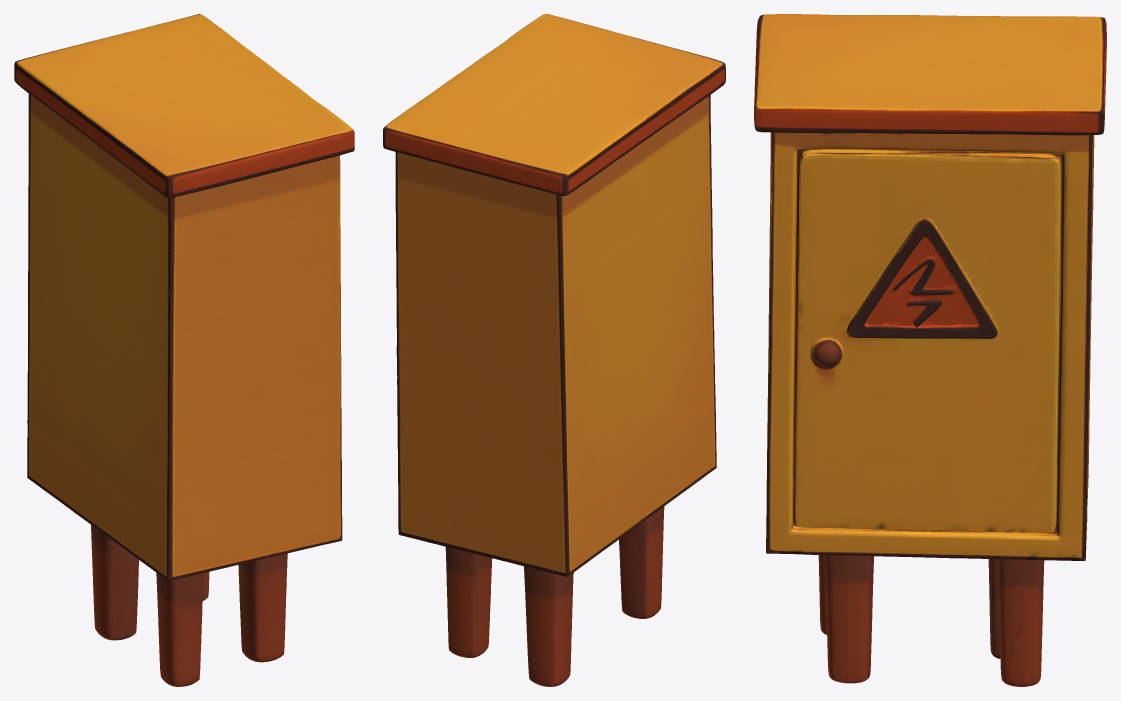
Rendered from urbanutility3d3.glb.
The picture shows the model from 3 angles, left to right: view 1: azimuth 30°, elevation 25°; view 2: azimuth 150°, elevation 25°; view 3: azimuth 270°, elevation 25°; orthographic projection. The views are drawn at different scales.
Parts seen in each view (by area): view 1: tripo_node_341ae1d0-ce1c-4370-97ca-38a2fbbafd6b; view 2: tripo_node_341ae1d0-ce1c-4370-97ca-38a2fbbafd6b; view 3: tripo_node_341ae1d0-ce1c-4370-97ca-38a2fbbafd6b.
Part boxes in pixels (box(x1,y1,x2,y2)): tripo_node_341ae1d0-ce1c-4370-97ca-38a2fbbafd6b: box(14, 14, 354, 686); tripo_node_341ae1d0-ce1c-4370-97ca-38a2fbbafd6b: box(383, 14, 725, 686); tripo_node_341ae1d0-ce1c-4370-97ca-38a2fbbafd6b: box(754, 14, 1106, 686).
Size of the model in its own units: 0.3562 by 1 by 0.5214.
Materials: 1 (1 with a texture image).
